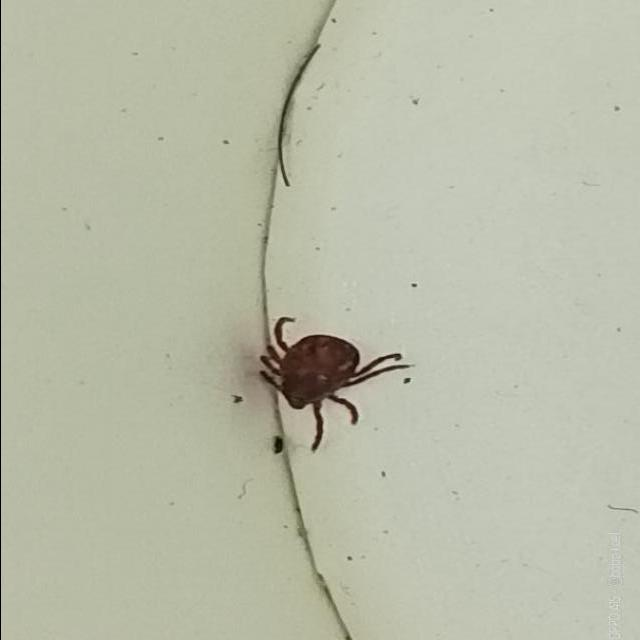Rhipicephalus Sanguineus-M: (261, 316, 410, 449)
